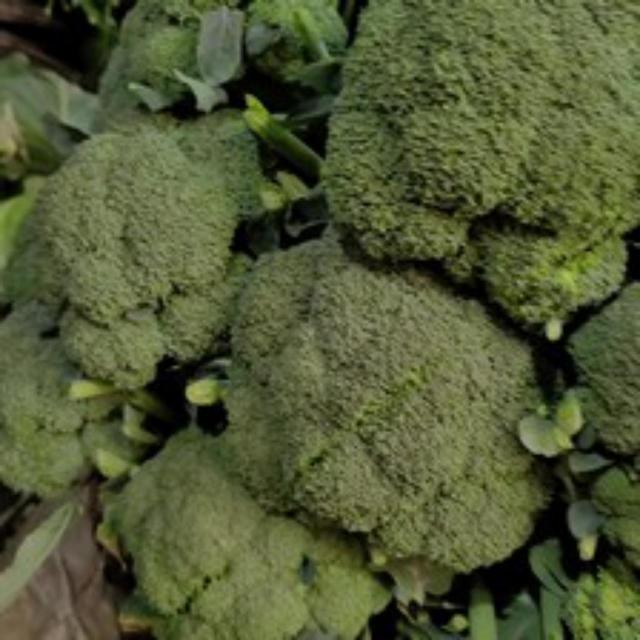broccoli: (215, 214, 566, 576)
